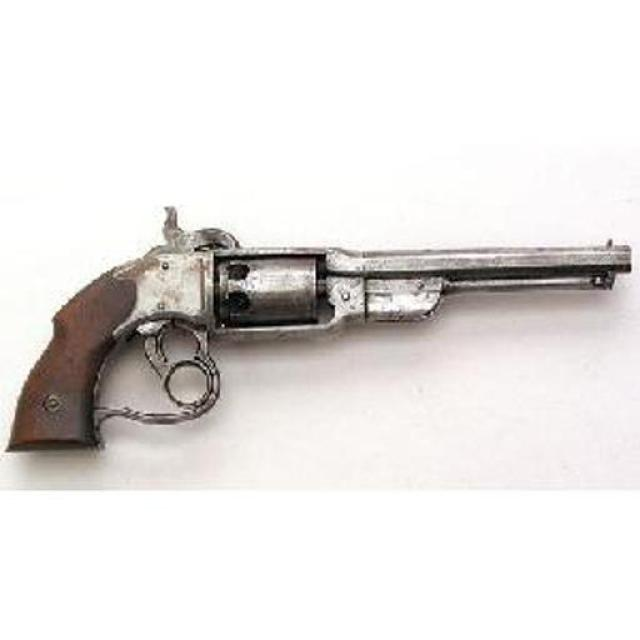pistol: (3, 217, 631, 451)
